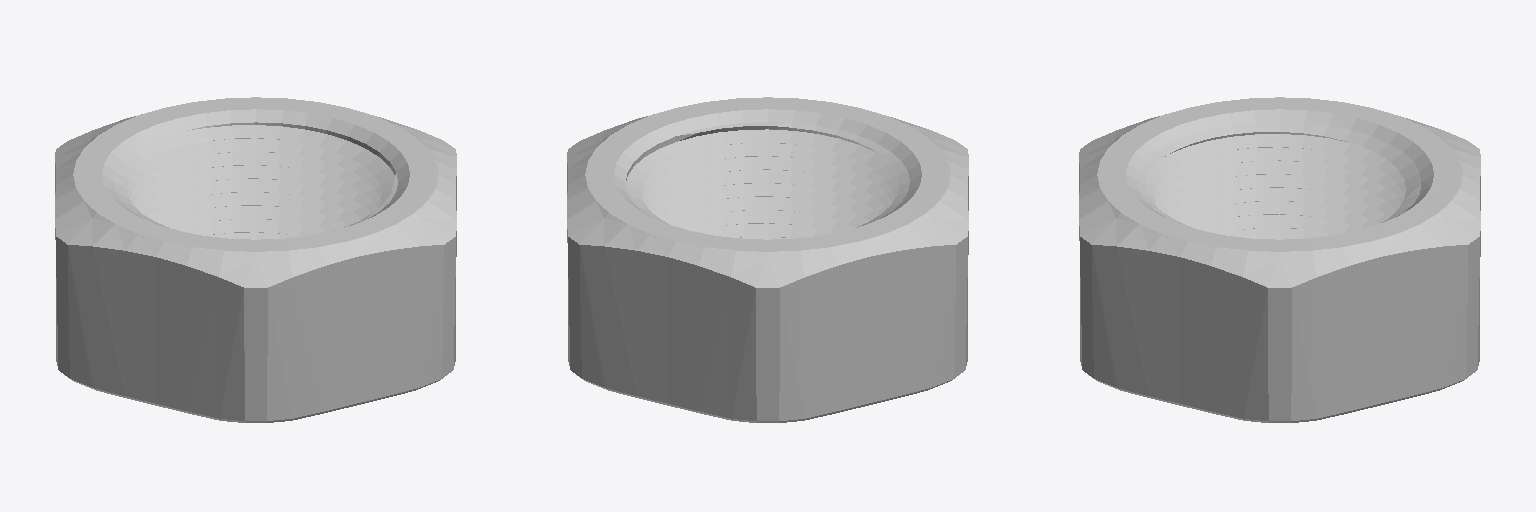
Rendered from nut2.obj.
The picture shows the model from 3 angles: view 1: azimuth 30°, elevation 25°; view 2: azimuth 150°, elevation 25°; view 3: azimuth 270°, elevation 25°; orthographic projection.
Visible parts, largest first — view 1: nut.001; view 2: nut.001; view 3: nut.001.
Part boxes in pixels (x1,y1,x2,y2): nut.001: (55, 97, 456, 422); nut.001: (567, 97, 968, 422); nut.001: (1079, 97, 1480, 422).
Size of the model in its own units: 0.0345 by 0.0138 by 0.0308.